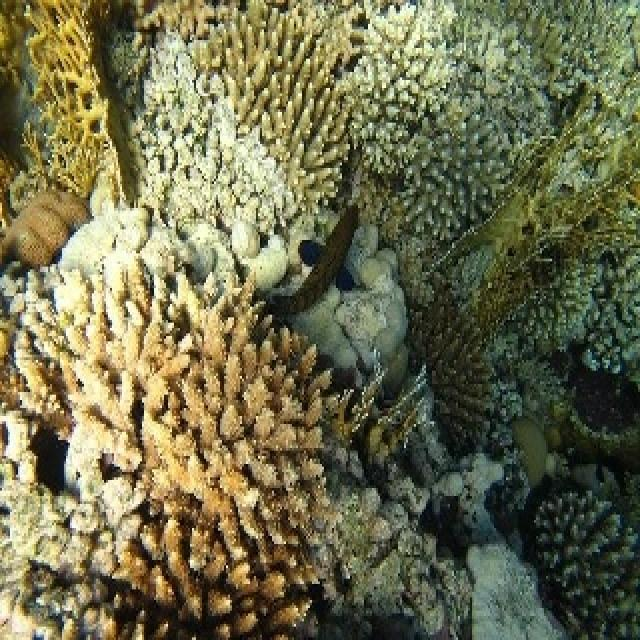fish: (272, 203, 359, 319)
reefs: (0, 254, 382, 637), (132, 0, 353, 215), (342, 0, 517, 243), (533, 492, 638, 637), (406, 284, 498, 449), (0, 188, 90, 270)
